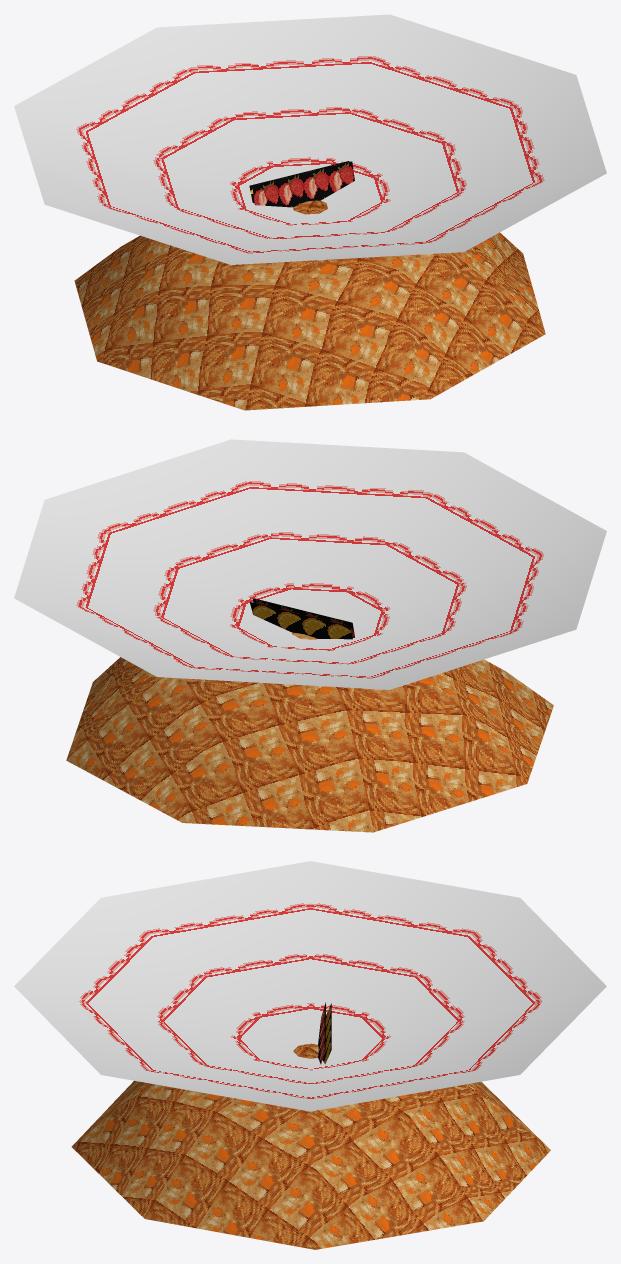
The model's file is 5572u_ktyk00_ss.gltf.
The picture shows the model from 3 angles, top to bottom: view 1: azimuth 30°, elevation 25°; view 2: azimuth 150°, elevation 25°; view 3: azimuth 270°, elevation 25°; orthographic projection. The views are drawn at different scales.
Parts seen in each view (by area): view 1: 5572u_ktyk00_ss; view 2: 5572u_ktyk00_ss; view 3: 5572u_ktyk00_ss.
Part boxes in pixels (x1,y1,x2,y2): 5572u_ktyk00_ss: (14, 14, 606, 410); 5572u_ktyk00_ss: (14, 439, 606, 832); 5572u_ktyk00_ss: (14, 861, 606, 1249).
Bounding box in the file's own units: 0.8994 × 0.2715 × 0.8994.
Materials: 5 (5 with a texture image).
